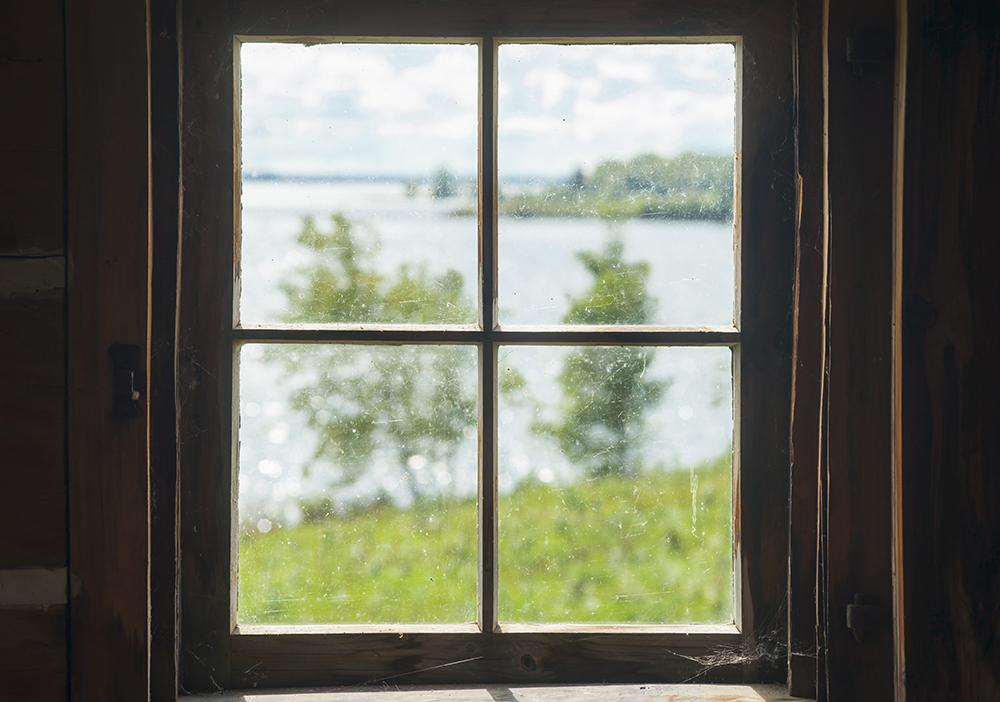Window: (178, 2, 787, 683)
